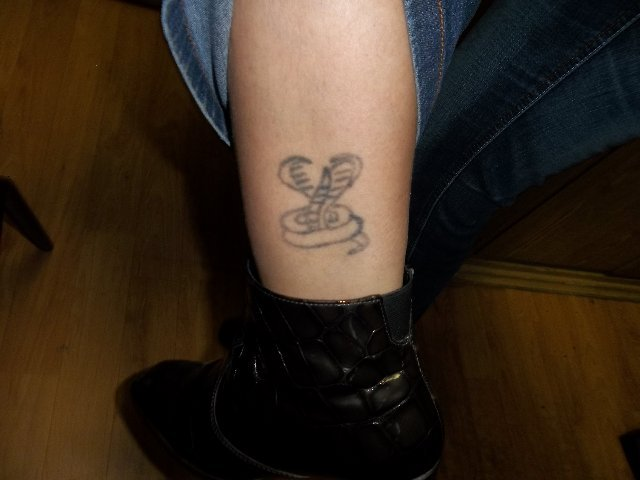tatu7_zmeya: (267, 138, 385, 275)
